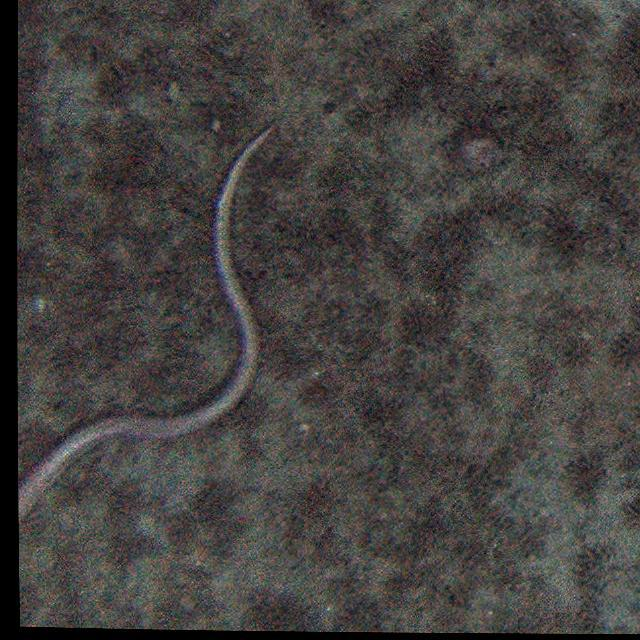eel: (21, 120, 278, 520)
